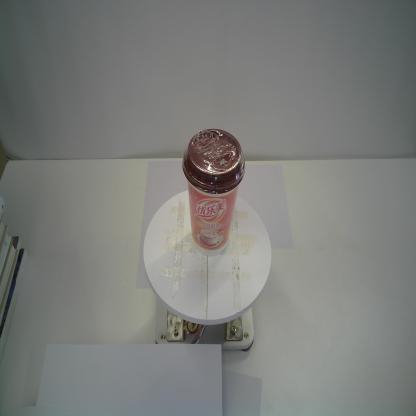Instant Drink: (182, 128, 246, 258)
